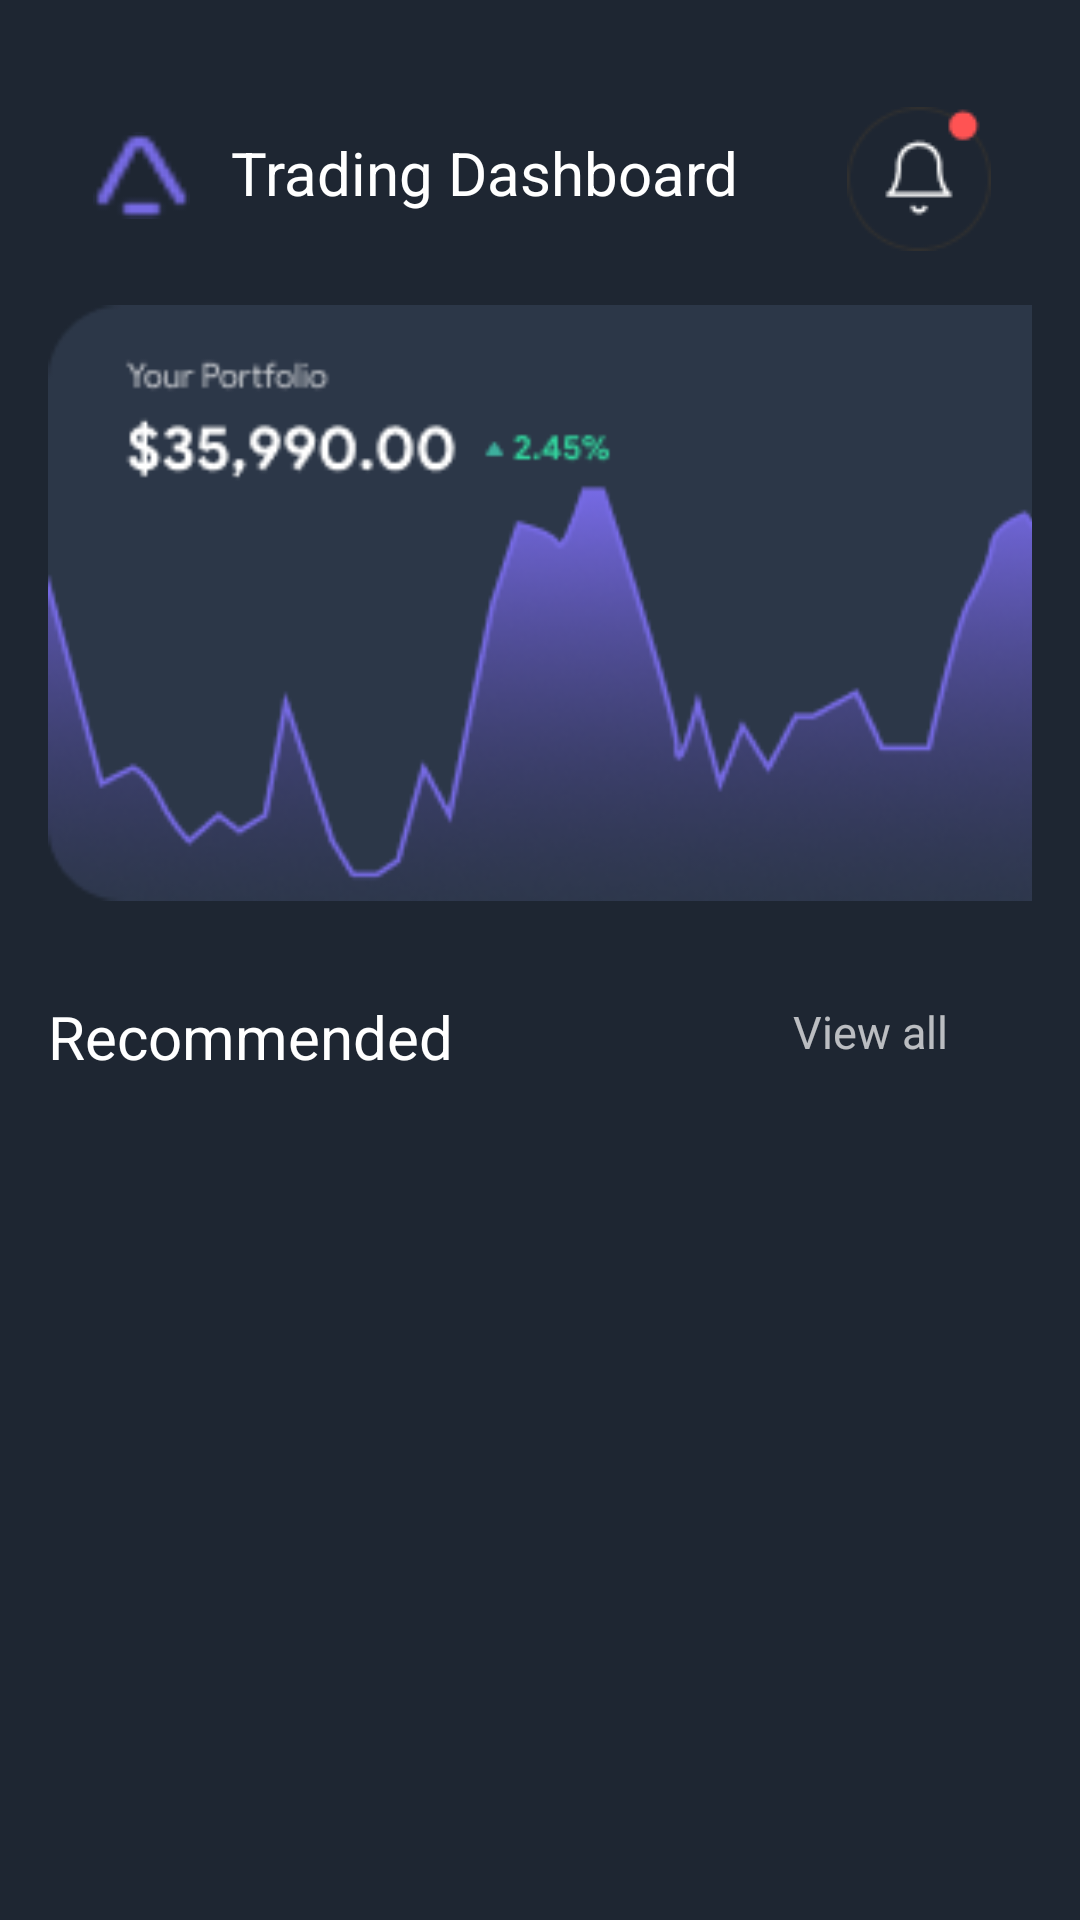

Named icons in this screenshot (1080x1920) and their centers, [x,y]:
noti: [932,162]
